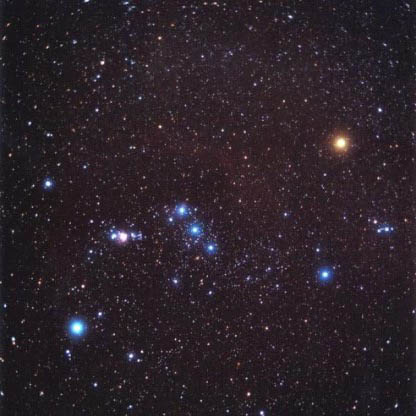Orion: (61, 313, 95, 348), (330, 125, 364, 160), (311, 258, 338, 290), (165, 196, 197, 220), (178, 219, 203, 240), (37, 176, 63, 194), (196, 241, 219, 260)
